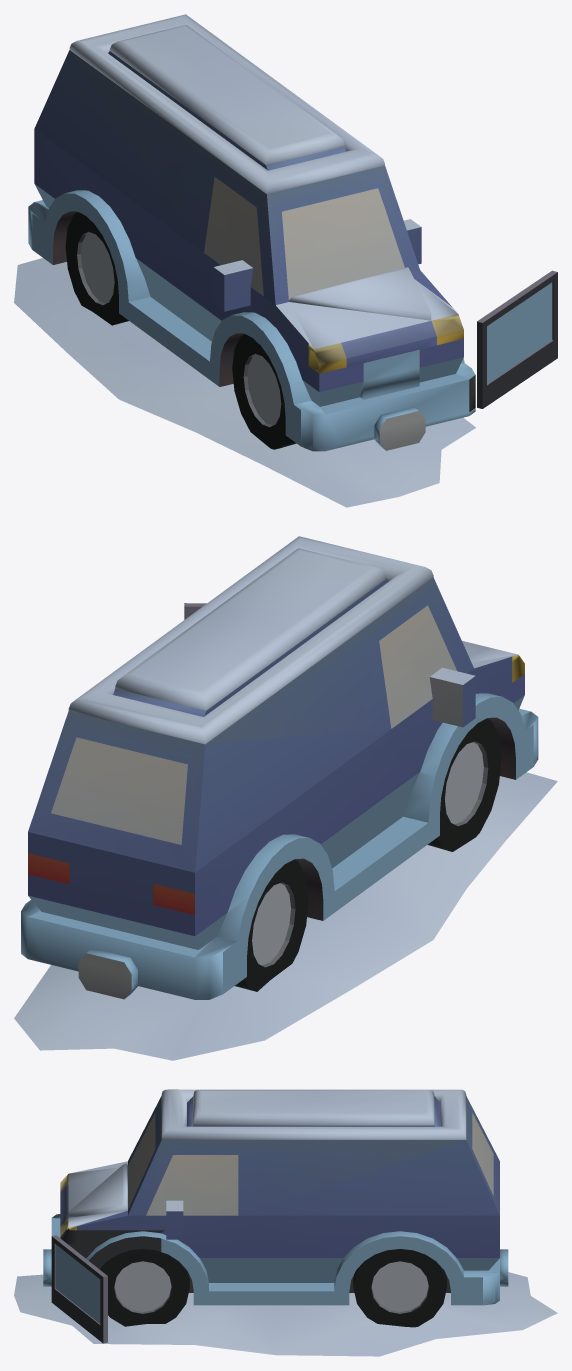
The model's file is van_doors.glb.
The picture shows the model from 3 angles, top to bottom: view 1: azimuth 30°, elevation 25°; view 2: azimuth 150°, elevation 25°; view 3: azimuth 270°, elevation 25°; orthographic projection. The views are drawn at different scales.
Visible parts, largest first — view 1: Body, Glass; view 2: Body, Glass; view 3: Body, Glass.
Boxes of the visible parts, <box> form: Body: <box>14,14,557,507</box>; Glass: <box>28,184,552,451</box>; Body: <box>14,536,557,1060</box>; Glass: <box>21,693,538,999</box>; Body: <box>14,1089,557,1356</box>; Glass: <box>43,1214,508,1323</box>.
Size of the model in its own units: 3.32 by 2.55 by 6.2.
